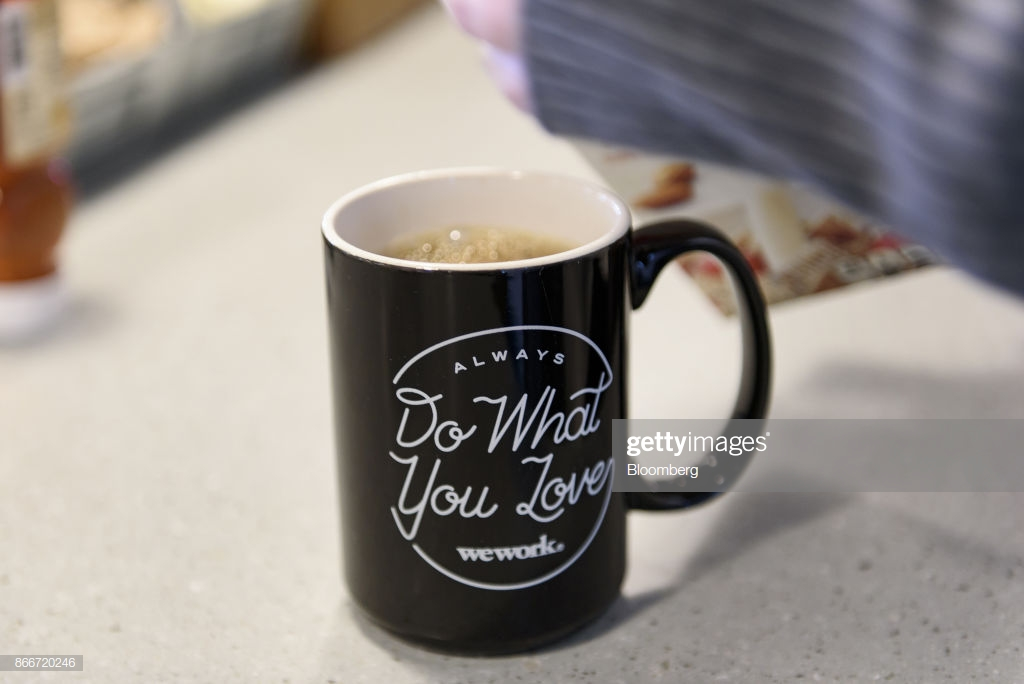wework: (453, 531, 555, 564)
